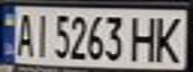2: (66, 11, 87, 61)
3: (103, 12, 130, 62)
5: (51, 10, 72, 60)
6: (84, 12, 109, 62)
A: (12, 9, 36, 57)
H: (127, 12, 163, 63)
I: (30, 9, 51, 58)
K: (151, 12, 187, 63)
